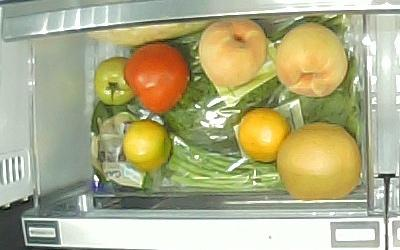peach: (275, 22, 349, 99), (198, 17, 267, 86)
pear: (276, 121, 362, 200)
tangerine: (238, 107, 290, 162), (122, 119, 171, 173)
tomato: (122, 41, 188, 113), (95, 57, 137, 105)
